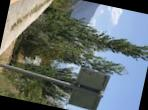right_turn: (0, 88, 38, 103), (28, 92, 36, 102)
